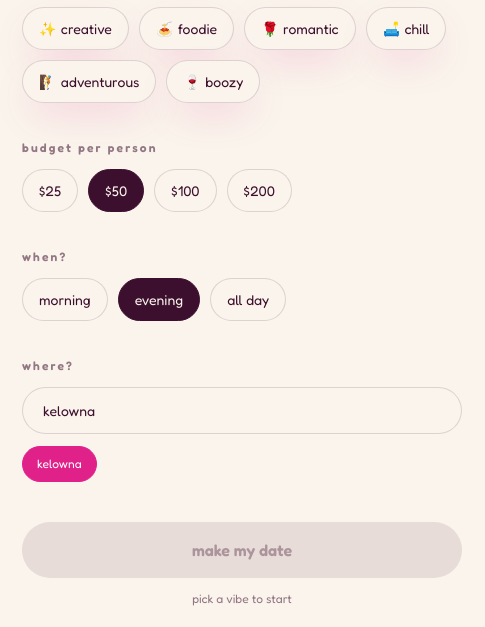
Test: CreateFlow › generates and renders the plan title; anon sees the locked CTA
Click the button "✨creative" at (75, 28), box x1=22 y1=6 x2=129 y2=50
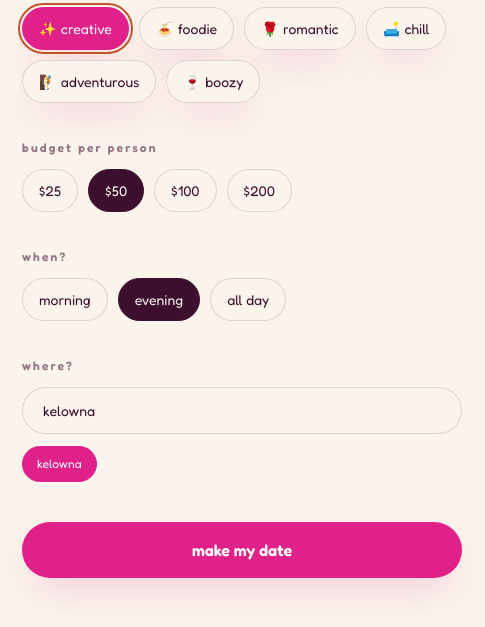
Click the button "make my date" at (242, 550), box x1=22 y1=522 x2=462 y2=578
(page scrolled)
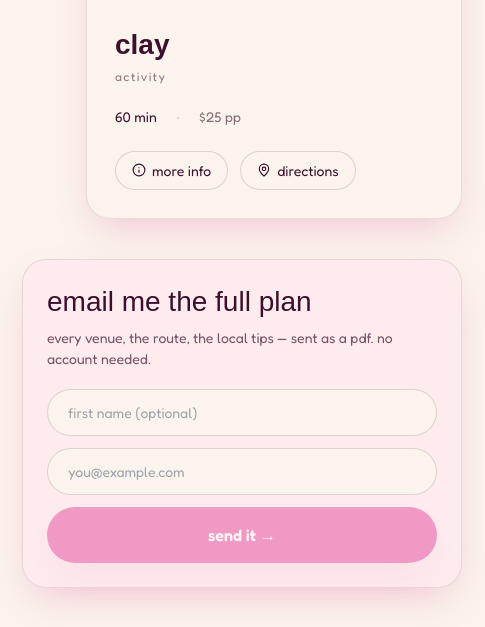
Now the text "email me the full plan" is shown, box x1=47 y1=286 x2=312 y2=317
